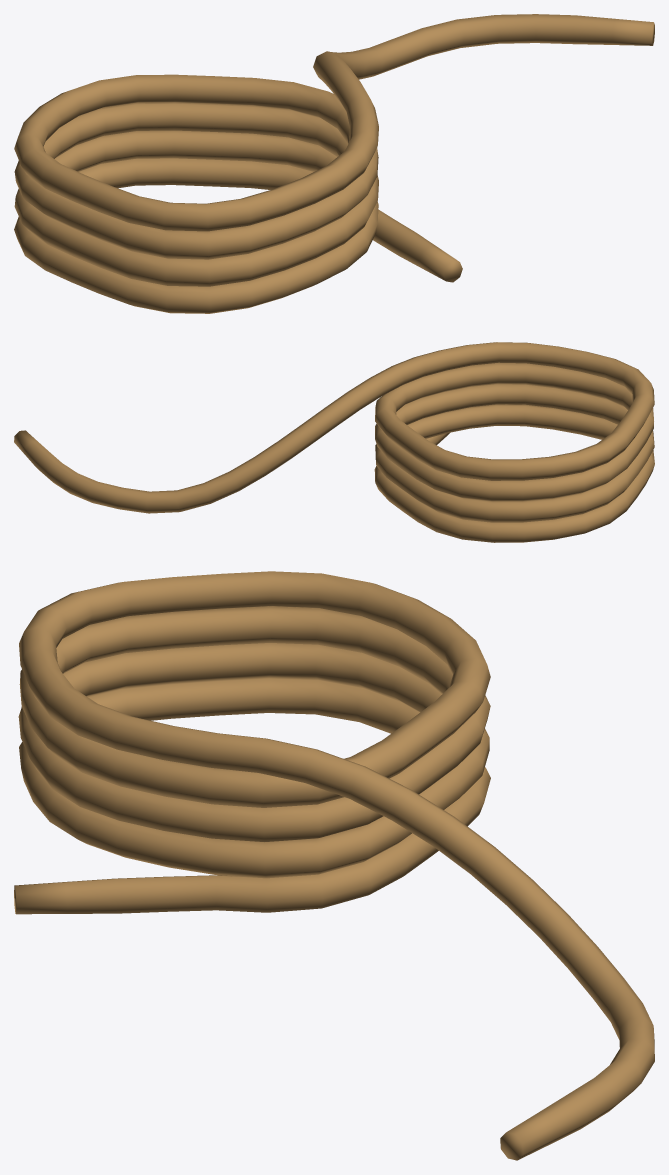
Rendered from coiled-rope_final.glb.
3 renders of one model, top to bottom at view 1: azimuth 30°, elevation 25°; view 2: azimuth 150°, elevation 25°; view 3: azimuth 270°, elevation 25°, orthographic. The views are drawn at different scales.
Visible parts, largest first — view 1: SM_CoiledRope; view 2: SM_CoiledRope; view 3: SM_CoiledRope.
Boxes of the visible parts, left/top/right/bottom form: SM_CoiledRope: left=14, top=14, right=654, bottom=313; SM_CoiledRope: left=14, top=342, right=654, bottom=542; SM_CoiledRope: left=14, top=571, right=654, bottom=1160.
Size of the model in its own units: 0.7339 by 0.1338 by 0.4455.
